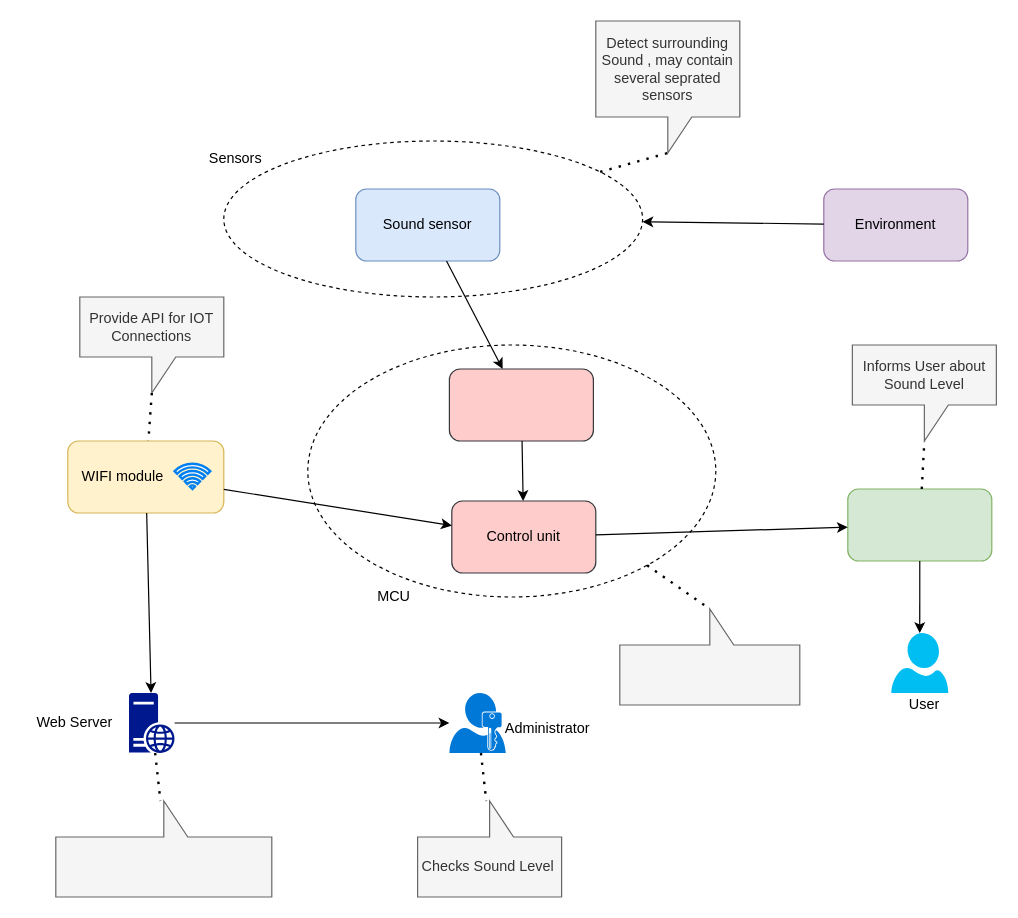
Image size: 1018x918. Some labels were removed from this diagram. Each missing label, with the centre of its shape:
"A/D convertor" belongs at point 520,404.
"Contains Backend and frontend implementation" belongs at point 163,848.
"Contains IOT Connections Code and processes required Computations" belongs at point 709,656.
"Monitor" belongs at point 919,524.
